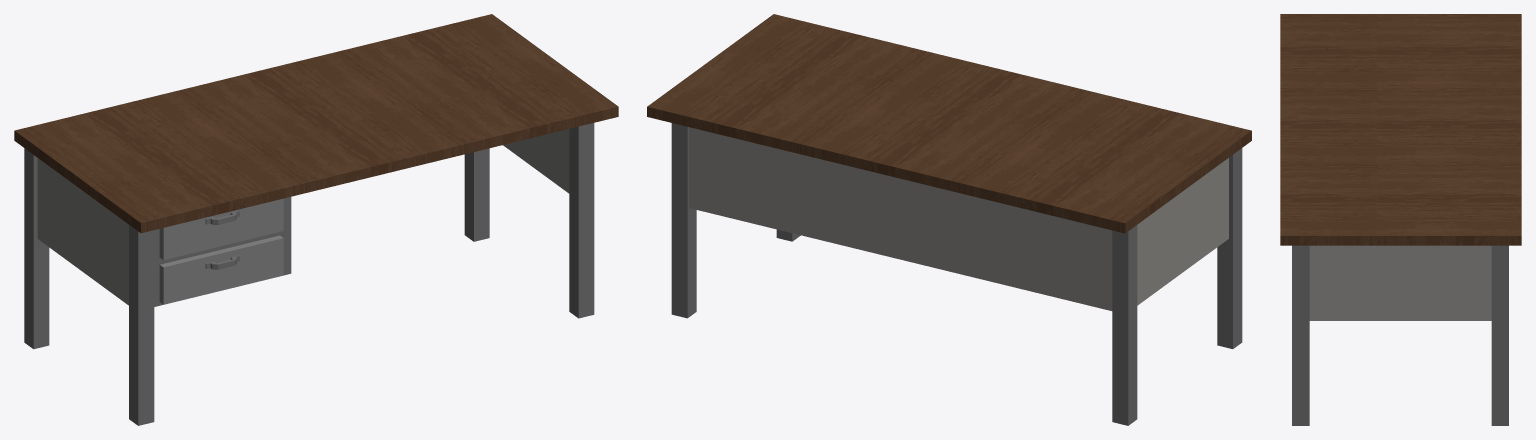
The model's file is table.glb.
The picture shows the model from 3 angles, left to right: view 1: azimuth 30°, elevation 25°; view 2: azimuth 150°, elevation 25°; view 3: azimuth 270°, elevation 25°; orthographic projection. The views are drawn at different scales.
Visible parts, largest first — view 1: Cube.016; view 2: Cube.016; view 3: Cube.016.
Part boxes in pixels (x1,y1,x2,y2): Cube.016: (14, 14, 618, 425); Cube.016: (647, 14, 1251, 425); Cube.016: (1280, 14, 1521, 425).
Bounding box in the file's own units: 2.54 × 1.06 × 1.17.
4 materials, 1 textured.
